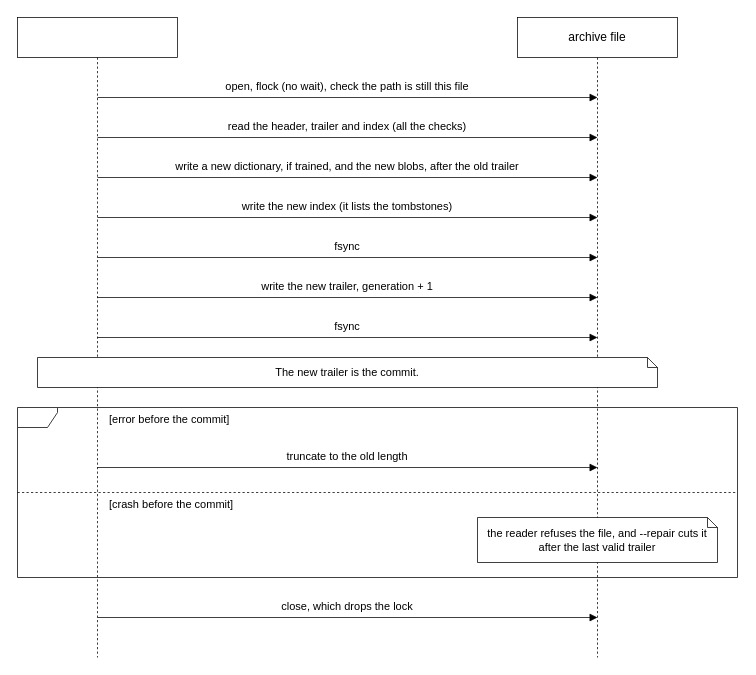
Some shapes in this 756 by 675 pixel diagram are drawn without their labels. Each missing label, with the box of its shape:
alt: (17, 407, 737, 577)
eictar -r: (17, 17, 177, 657)
